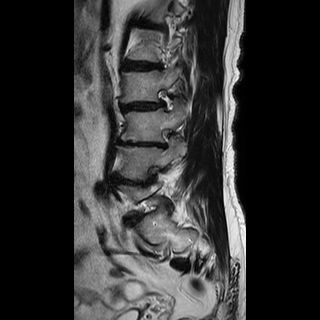RFS0: (149, 84, 180, 116)
